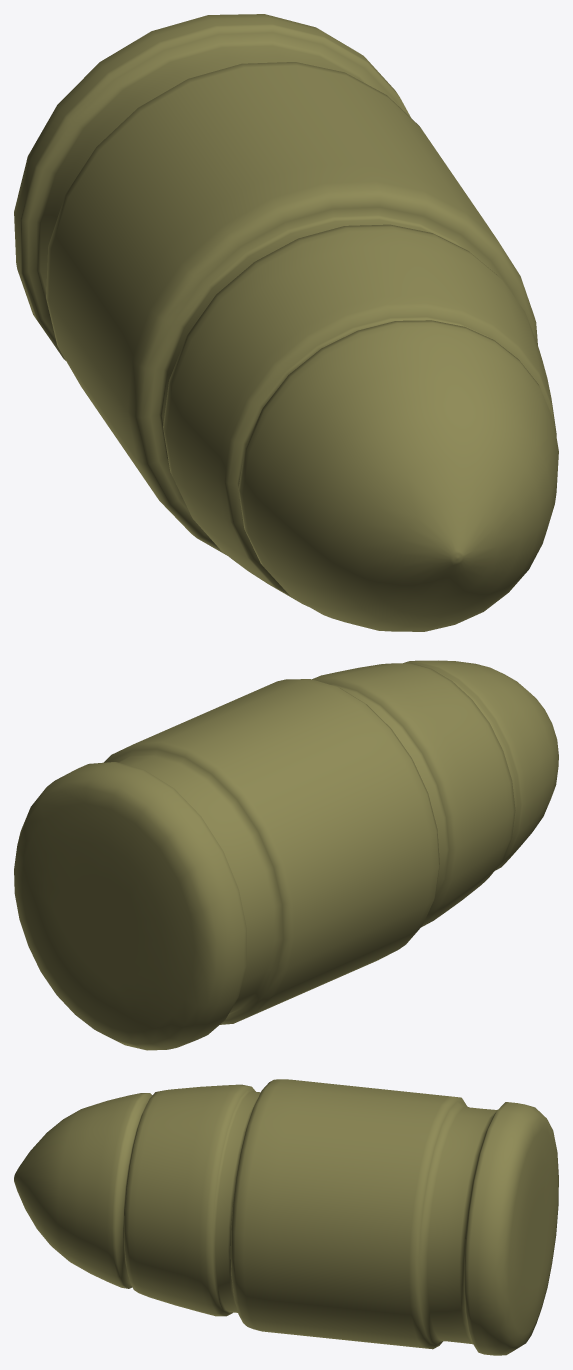
The model's file is Bullet.fbx.
3 renders of one model, top to bottom at view 1: azimuth 30°, elevation 25°; view 2: azimuth 150°, elevation 25°; view 3: azimuth 270°, elevation 25°, orthographic. The views are drawn at different scales.
Visible parts, largest first — view 1: pCylinder3; view 2: pCylinder3; view 3: pCylinder3.
Boxes of the visible parts, bbox=[...] form: pCylinder3: bbox=[14, 14, 558, 631]; pCylinder3: bbox=[14, 660, 558, 1050]; pCylinder3: bbox=[14, 1079, 558, 1355].
Bounding box in the file's own units: 1.13 × 0.9205 × 1.97.
